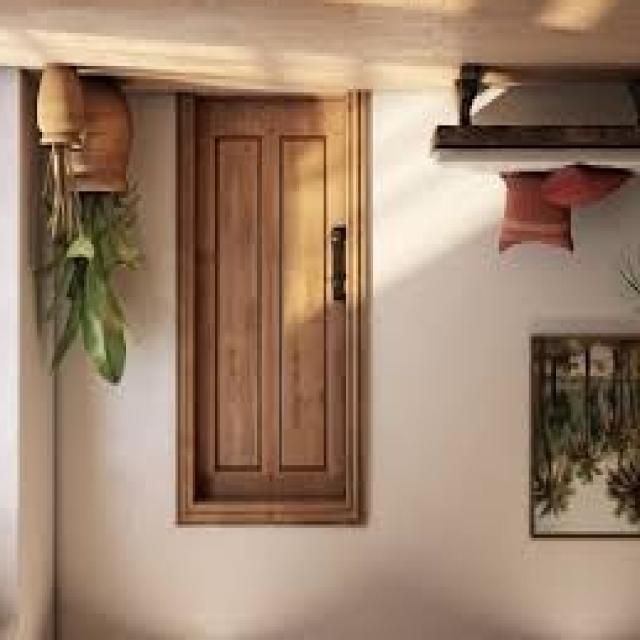door: (183, 92, 358, 524)
